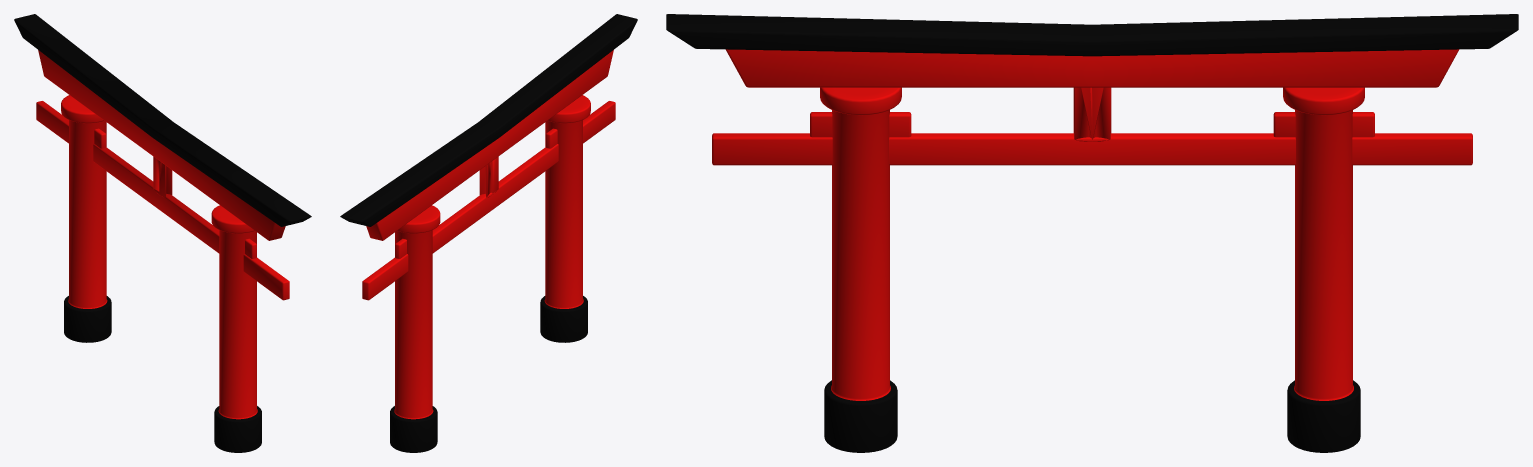
Rendered from Arch.fbx.
3 renders of one model, left to right at view 1: azimuth 30°, elevation 25°; view 2: azimuth 150°, elevation 25°; view 3: azimuth 270°, elevation 25°, orthographic. The views are drawn at different scales.
Visible parts, largest first — view 1: ArchWay; view 2: ArchWay; view 3: ArchWay.
Part boxes in pixels (x1,y1,x2,y2): ArchWay: (14, 14, 311, 452); ArchWay: (340, 14, 637, 452); ArchWay: (666, 14, 1518, 452).
Size of the model in its own units: 284 by 1588 by 2944.
